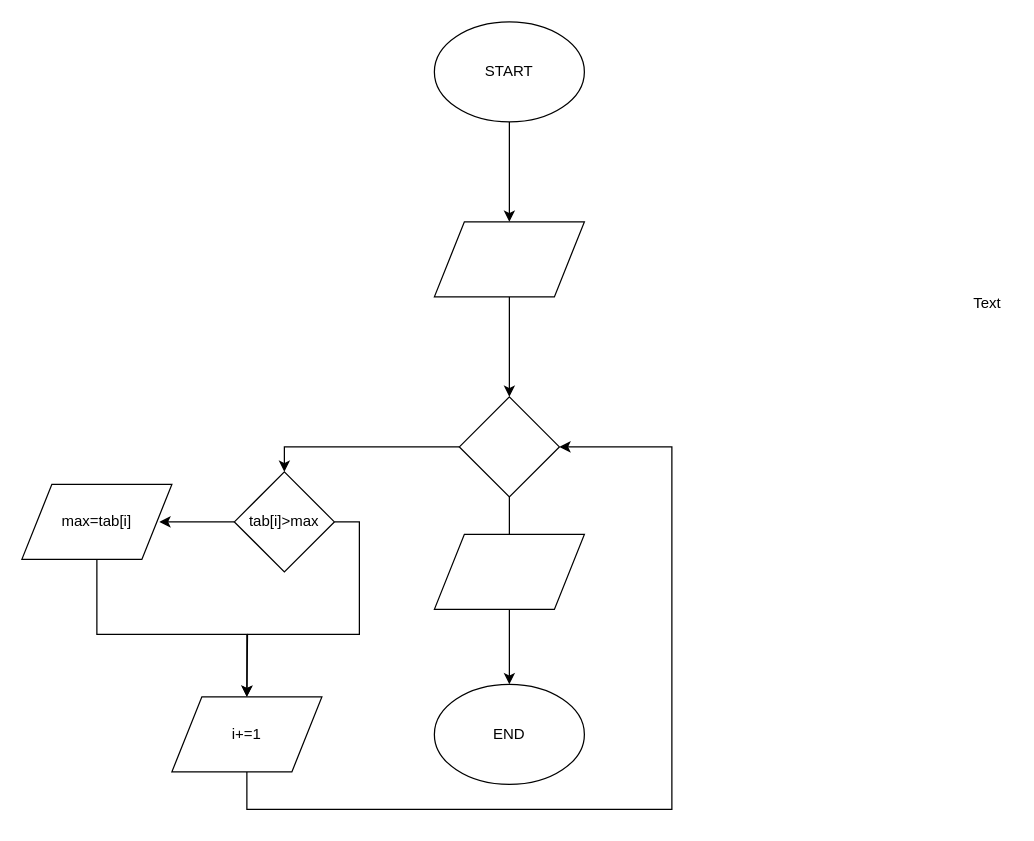
The diagram is 1034 pixels wide and 841 high, and some of its shapes have lost their labels. Here are the shapes that lost their labels. From the top down, the box of each, then its label:
(433, 221, 584, 297): tab[] max=tab[0] i=1
(458, 396, 559, 497): i<len(tab)
(433, 533, 584, 609): print(max)
